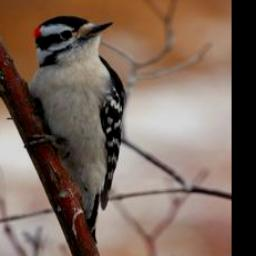Woodpecker: (21, 15, 124, 244)
